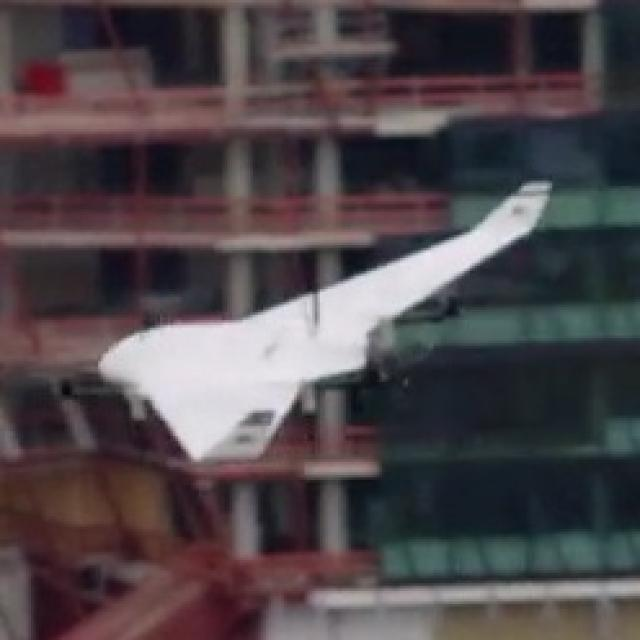iha: (78, 176, 565, 467)
